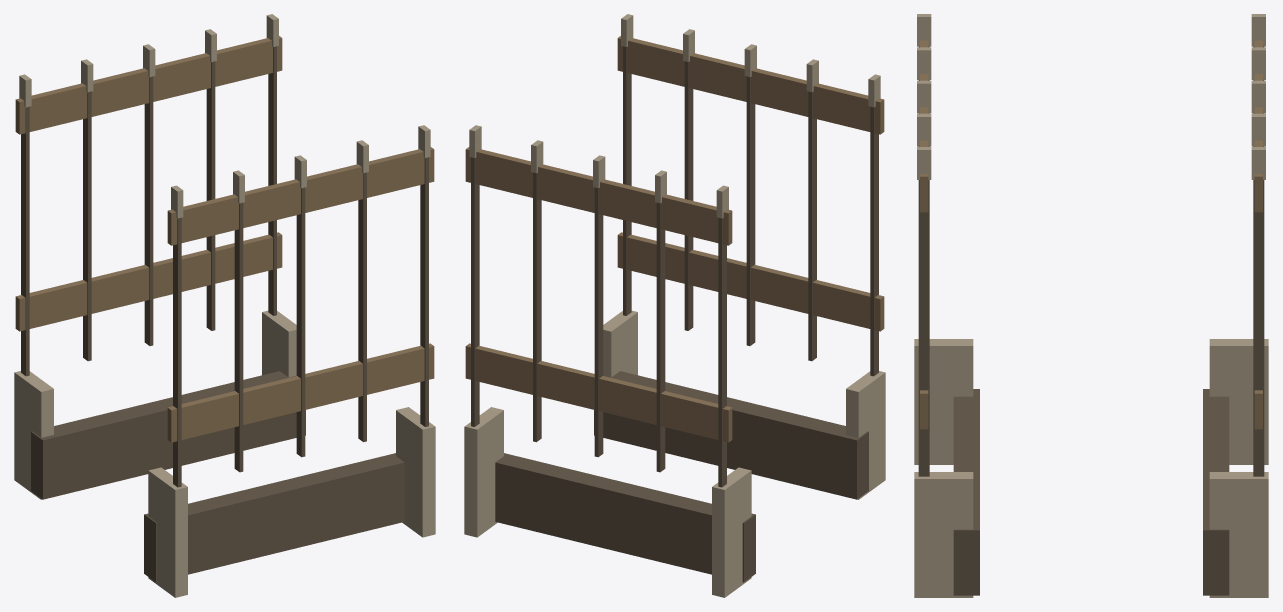
The model's file is Town_SkyBridge.fbx.
3 views of the same model, side by side, from view 1: azimuth 30°, elevation 25°; view 2: azimuth 150°, elevation 25°; view 3: azimuth 270°, elevation 25° (orthographic). The views are drawn at different scales.
Visible parts, largest first — view 1: Town_SkyBridge; view 2: Town_SkyBridge; view 3: Town_SkyBridge.
Boxes of the visible parts, x1,y1,x2,y2 form: Town_SkyBridge: [14, 14, 435, 597]; Town_SkyBridge: [464, 14, 885, 597]; Town_SkyBridge: [914, 14, 1268, 597].
Bounding box in the file's own units: 1.02 × 1.5 × 1.08.
